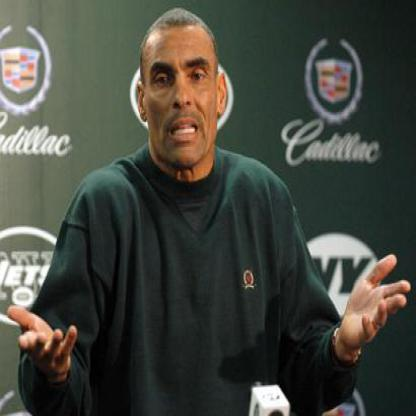face: (143, 10, 221, 171)
